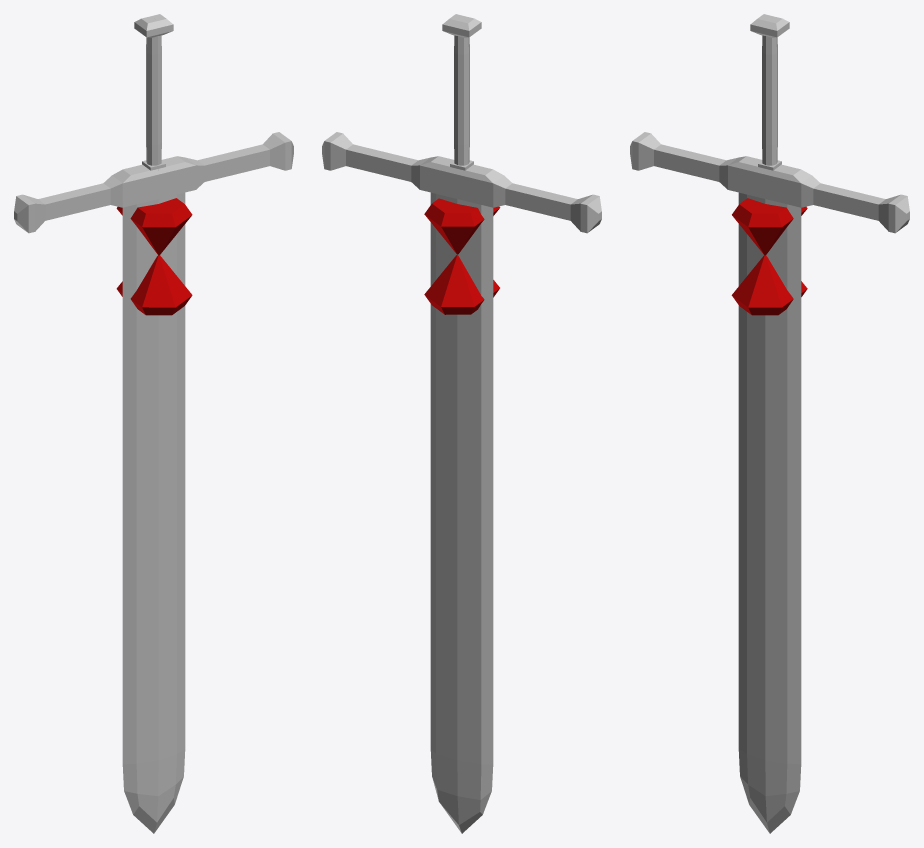
Rendered from testcrystalsword.obj.
The picture shows the model from 3 angles, left to right: view 1: azimuth 30°, elevation 25°; view 2: azimuth 150°, elevation 25°; view 3: azimuth 330°, elevation 25°; orthographic projection.
Parts seen in each view (by area): view 1: Cube.002_Cube.003, Cube.003_Cube.004, Cube_Cube.001, Cube.008_Cube.010, Cube.001_Cube.002; view 2: Cube.002_Cube.003, Cube.003_Cube.004, Cube.005_Cube.006, Cube.008_Cube.010, Cube.004_Cube.005; view 3: Cube.002_Cube.003, Cube.003_Cube.004, Cube_Cube.001, Cube.008_Cube.010, Cube.001_Cube.002.
Part boxes in pixels (left/top/right/bottom): Cube.002_Cube.003: left=122, top=192, right=185, bottom=833; Cube.003_Cube.004: left=14, top=14, right=293, bottom=233; Cube_Cube.001: left=130, top=255, right=192, bottom=315; Cube.008_Cube.010: left=146, top=35, right=161, bottom=165; Cube.001_Cube.002: left=130, top=198, right=192, bottom=255; Cube.002_Cube.003: left=430, top=192, right=493, bottom=833; Cube.003_Cube.004: left=322, top=14, right=601, bottom=233; Cube.005_Cube.006: left=424, top=255, right=483, bottom=314; Cube.008_Cube.010: left=454, top=35, right=469, bottom=165; Cube.004_Cube.005: left=424, top=198, right=483, bottom=254; Cube.002_Cube.003: left=738, top=192, right=801, bottom=833; Cube.003_Cube.004: left=630, top=14, right=909, bottom=233; Cube_Cube.001: left=731, top=255, right=793, bottom=315; Cube.008_Cube.010: left=762, top=35, right=777, bottom=165; Cube.001_Cube.002: left=732, top=198, right=793, bottom=255.
Bounding box in the file's own units: 40.42 × 114 × 10.8.
